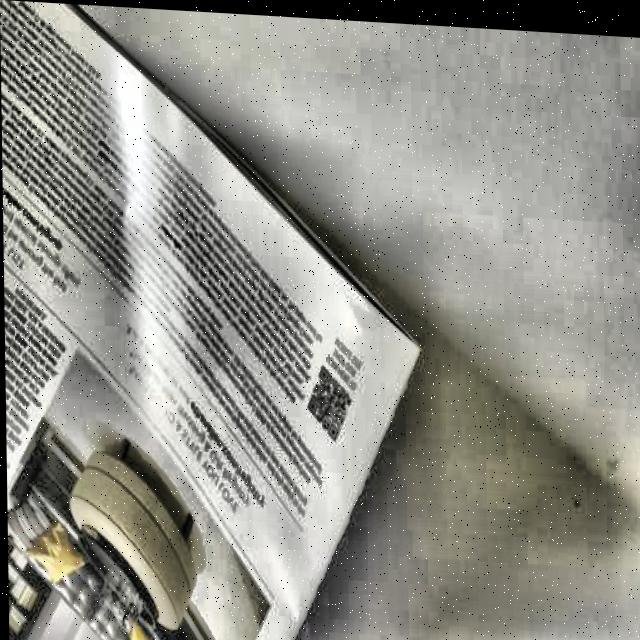paper: (0, 0, 424, 640)
